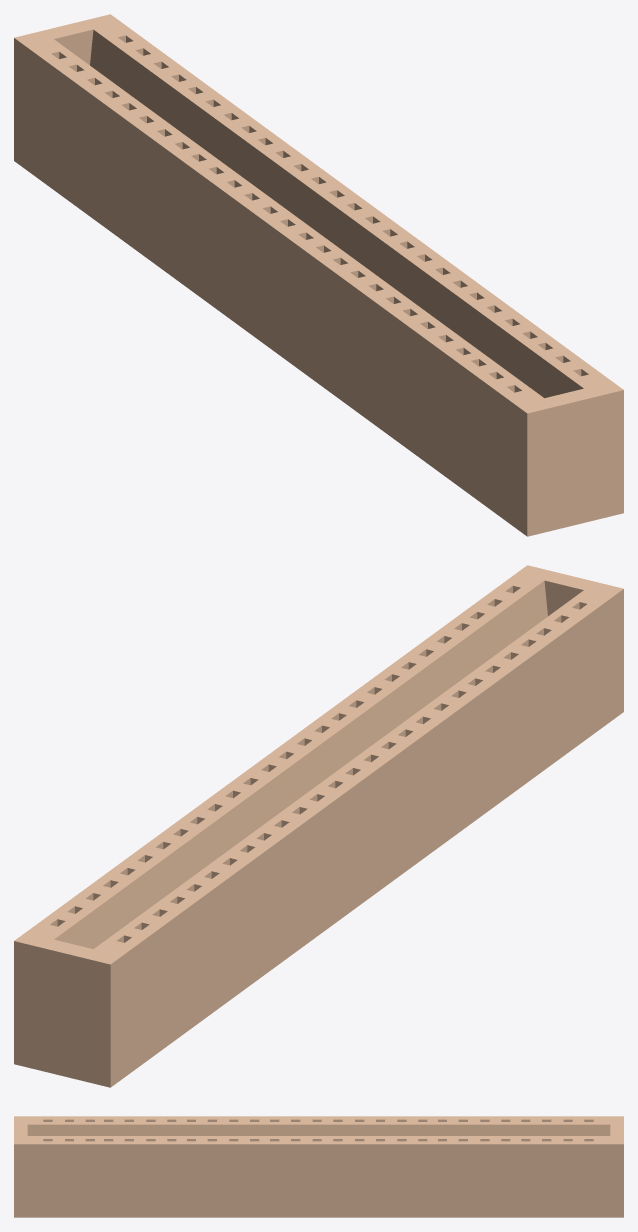
The model's file is audio_rete2.fbx.
The picture shows the model from 3 angles, top to bottom: view 1: azimuth 30°, elevation 25°; view 2: azimuth 150°, elevation 25°; view 3: azimuth 270°, elevation 25°; orthographic projection. The views are drawn at different scales.
Visible parts, largest first — view 1: audio_rete5; view 2: audio_rete5; view 3: audio_rete5.
Boxes of the visible parts, x1,y1,x2,y2 form: audio_rete5: (14, 14, 623, 536); audio_rete5: (14, 565, 623, 1087); audio_rete5: (14, 1116, 623, 1217).
Size of the model in its own units: 481 by 587 by 4432.
